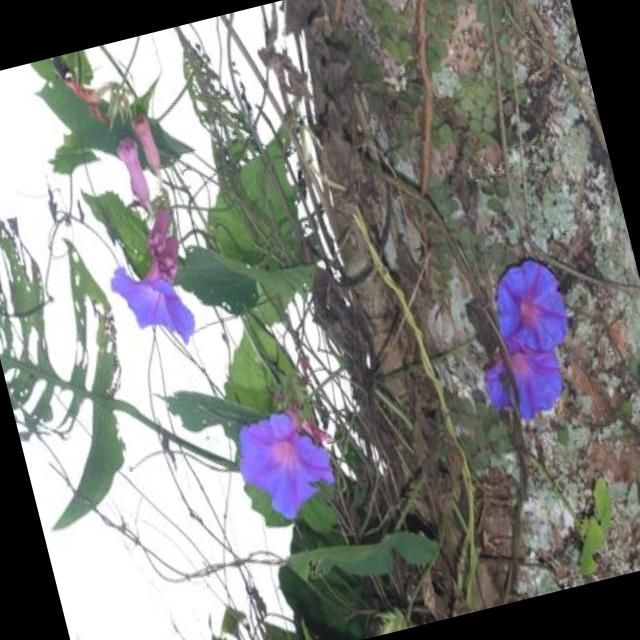ipomoea: (454, 246, 596, 434), (222, 392, 348, 534), (104, 245, 204, 364), (470, 322, 576, 434), (482, 248, 580, 366)
